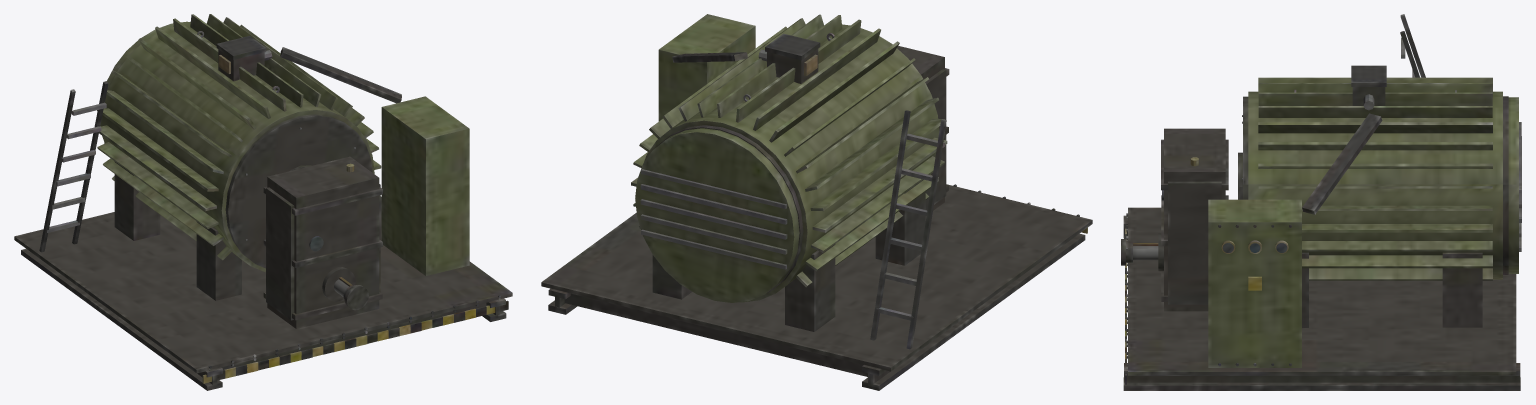
The model's file is feElectricMotor3.glb.
The picture shows the model from 3 angles, left to right: view 1: azimuth 30°, elevation 25°; view 2: azimuth 150°, elevation 25°; view 3: azimuth 270°, elevation 25°; orthographic projection. The views are drawn at different scales.
Parts seen in each view (by area): view 1: feElectricMotor3_Base, FeSpin_Motor3Out; view 2: feElectricMotor3_Base; view 3: feElectricMotor3_Base, FeSpin_Motor3Out.
Part boxes in pixels (bbox=[...]): feElectricMotor3_Base: bbox=[14, 14, 512, 390]; FeSpin_Motor3Out: bbox=[334, 277, 368, 310]; feElectricMotor3_Base: bbox=[541, 14, 1092, 390]; feElectricMotor3_Base: bbox=[1123, 14, 1521, 390]; FeSpin_Motor3Out: bbox=[1121, 239, 1158, 265].
Size of the model in its own units: 2.9 by 1.97 by 2.99.
Materials: 1 (1 with a texture image).
